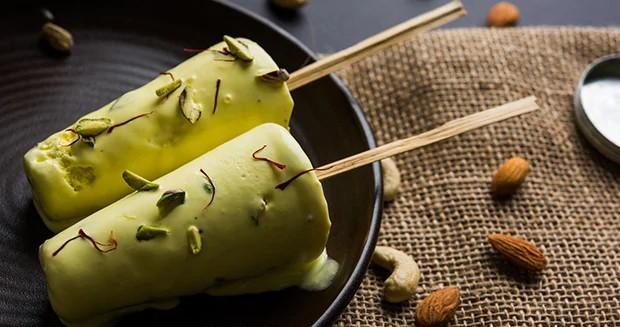Kulfi: (39, 123, 331, 318), (24, 38, 296, 232)
